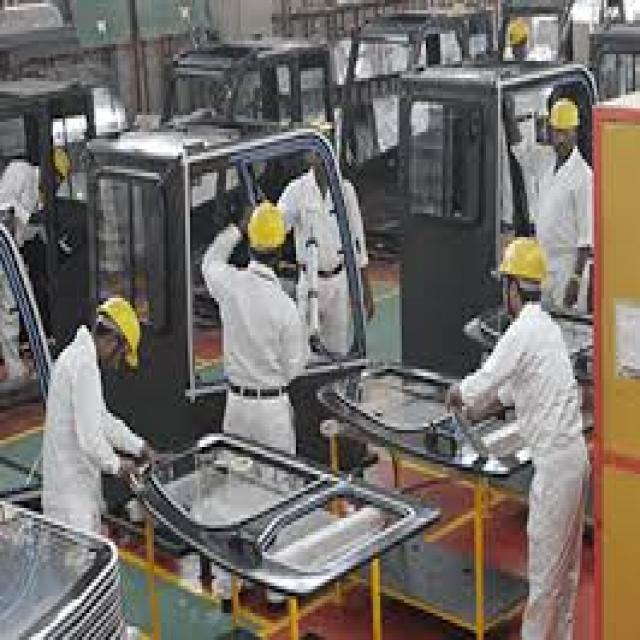Safety-Helmet: (86, 284, 152, 376), (491, 227, 556, 298), (238, 190, 294, 264), (541, 91, 585, 139), (41, 139, 77, 186)
